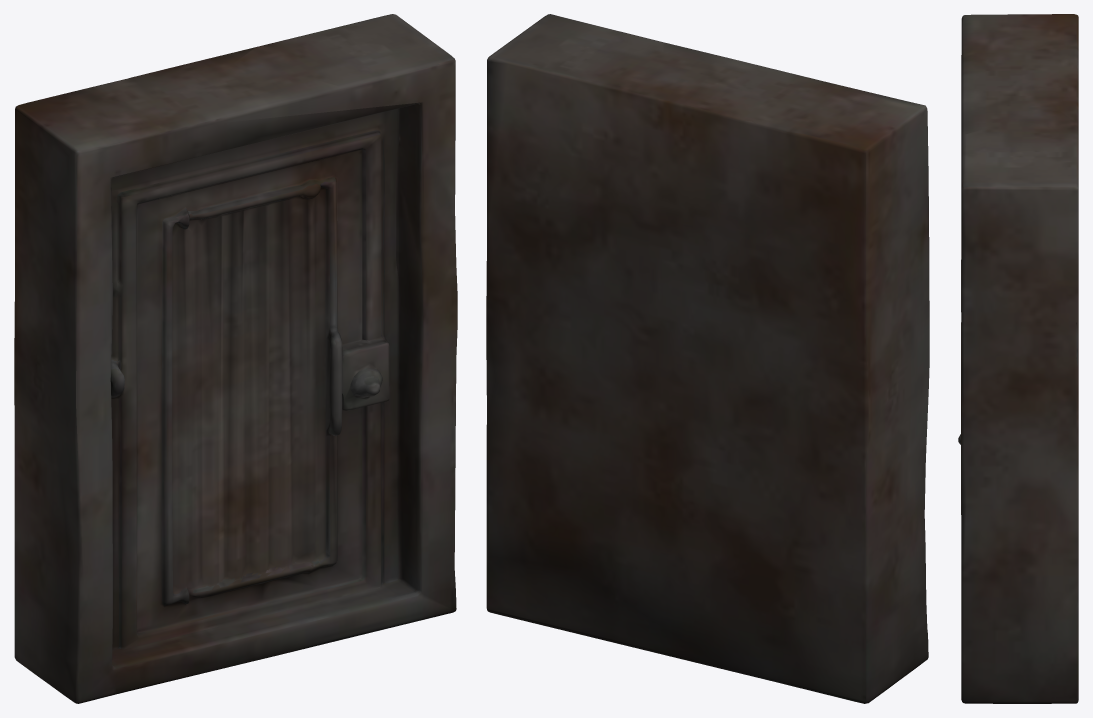
File: worn-iron-cell-door-v002.glb
3 renders of one model, left to right at view 1: azimuth 30°, elevation 25°; view 2: azimuth 150°, elevation 25°; view 3: azimuth 270°, elevation 25°, orthographic. The views are drawn at different scales.
Parts seen in each view (by area): view 1: worn-iron-cell-door; view 2: worn-iron-cell-door; view 3: worn-iron-cell-door.
Boxes of the visible parts, x1,y1,x2,y2 form: worn-iron-cell-door: [14, 14, 457, 703]; worn-iron-cell-door: [486, 14, 929, 703]; worn-iron-cell-door: [958, 14, 1078, 703].
Bounding box in the file's own units: 1.54 × 2.14 × 0.4507.
1 material, 1 textured.
